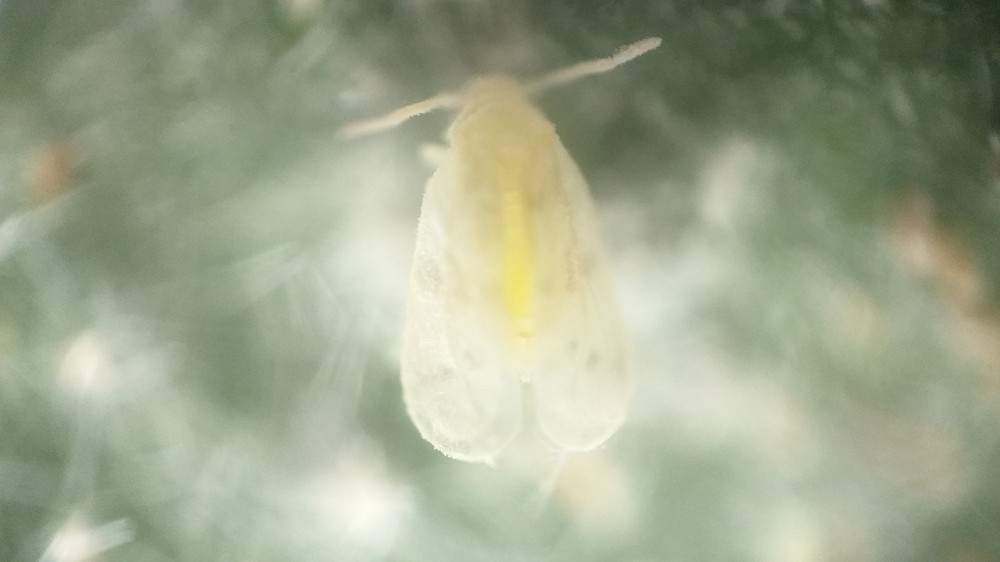Mosca Blanca: (321, 33, 724, 482)
